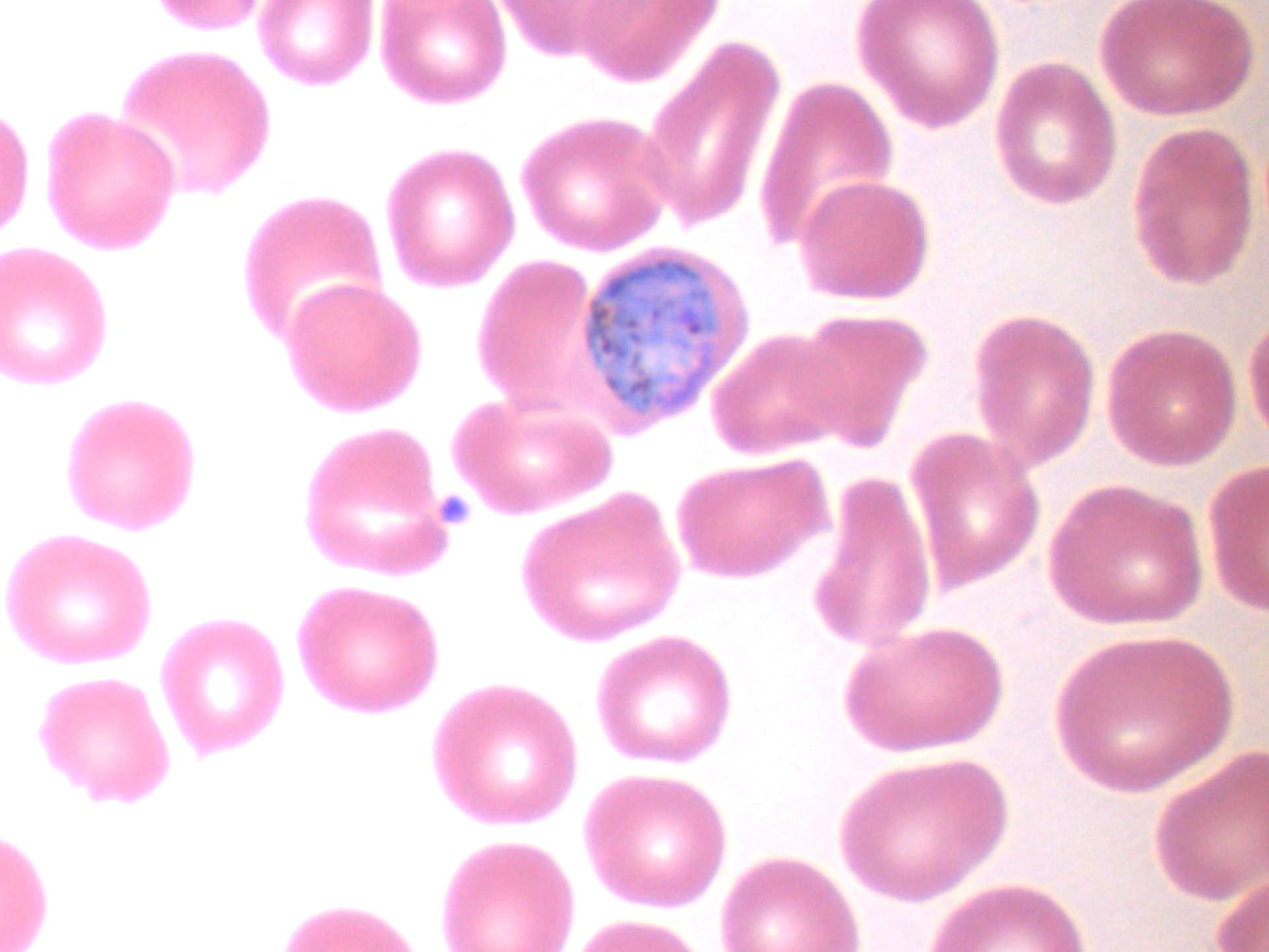Infected: (562, 246, 752, 437)
Uninfected: (1056, 641, 1236, 793), (523, 491, 681, 647), (651, 42, 781, 224), (119, 53, 272, 192), (848, 762, 1003, 899), (909, 426, 1035, 594), (433, 686, 579, 828), (1051, 484, 1198, 625), (306, 431, 445, 579), (767, 83, 886, 249), (530, 119, 674, 253), (478, 263, 607, 409), (846, 636, 1007, 751), (588, 775, 726, 909), (1105, 329, 1235, 470), (856, 0, 998, 127), (449, 407, 612, 517), (245, 195, 383, 324), (975, 319, 1092, 471), (297, 590, 439, 715), (1138, 128, 1252, 283), (7, 539, 148, 664), (46, 116, 174, 252), (684, 453, 826, 575), (165, 616, 286, 759), (66, 398, 197, 530), (996, 61, 1116, 205), (289, 283, 422, 411), (813, 480, 921, 637), (397, 151, 518, 290), (595, 635, 727, 761), (709, 332, 842, 456), (1102, 5, 1248, 113), (1158, 755, 1269, 896), (40, 681, 167, 802), (443, 841, 574, 952), (815, 316, 927, 444), (0, 246, 104, 382), (806, 185, 925, 297), (377, 0, 505, 104), (720, 858, 853, 952), (258, 0, 371, 84)
